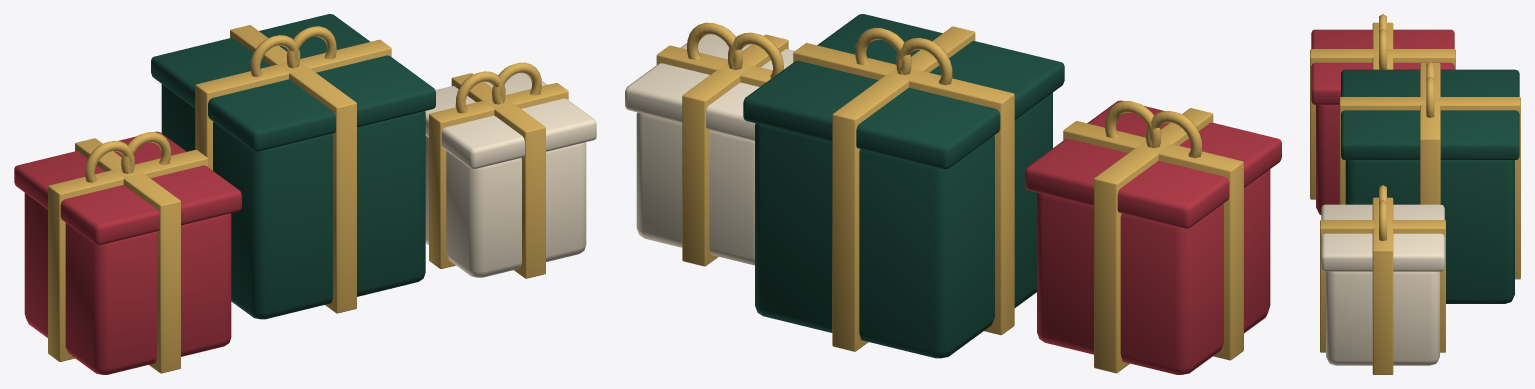
File: gifts.glb
3 renders of one model, left to right at view 1: azimuth 30°, elevation 25°; view 2: azimuth 150°, elevation 25°; view 3: azimuth 270°, elevation 25°, orthographic. The views are drawn at different scales.
Visible parts, largest first — view 1: Present.001, Present, Gift lid.001, Present.002, Gift lid, Gold ribbon.002, Gift lid.002, Gold ribbon, Gold ribbon.001, Gold ribbon.004, Gold ribbon.005, Gold ribbon.003 (+6 smaller); view 2: Present.001, Present, Gift lid.001, Gift lid, Present.002, Gold ribbon.002, Gold ribbon.003, Gold ribbon, Gold ribbon.001, Gold ribbon.004, Gift lid.002, Gold ribbon.005 (+6 smaller); view 3: Present.001, Gift lid.001, Present.002, Gift lid.002, Gift lid, Gold ribbon.002, Gold ribbon.005, Gold ribbon.004, Gold ribbon.003, Gold ribbon, Present, Gold ribbon.001 (+3 smaller).
Part boxes in pixels (x1,y1,x2,y2): Present.001: (161, 84, 425, 319); Present: (24, 193, 231, 374); Gift lid.001: (151, 14, 435, 151); Present.002: (425, 136, 586, 277); Gift lid: (14, 131, 241, 245); Gold ribbon.002: (230, 25, 356, 313); Gift lid.002: (425, 73, 596, 168); Gold ribbon: (75, 138, 180, 373); Gold ribbon.001: (48, 149, 207, 361); Gold ribbon.004: (451, 73, 545, 278); Gold ribbon.005: (429, 83, 568, 268); Gold ribbon.003: (195, 39, 391, 170); Present.001: (755, 92, 1052, 358); Present: (1037, 169, 1270, 374); Gift lid.001: (743, 14, 1064, 169); Gift lid: (1025, 100, 1281, 228); Present.002: (636, 112, 754, 265); Gold ribbon.002: (832, 26, 975, 351); Gold ribbon.003: (793, 43, 1014, 335); Gold ribbon: (1094, 108, 1213, 373); Gold ribbon.001: (1063, 121, 1243, 360); Gold ribbon.004: (682, 34, 788, 266); Gift lid.002: (625, 34, 794, 140); Gold ribbon.005: (656, 45, 772, 86); Present.001: (1345, 160, 1514, 303); Gift lid.001: (1341, 69, 1519, 159); Present.002: (1326, 271, 1439, 365); Gift lid.002: (1321, 204, 1444, 271); Gift lid: (1311, 29, 1454, 104); Gold ribbon.002: (1339, 97, 1520, 279); Gold ribbon.005: (1372, 197, 1393, 374); Gold ribbon.004: (1320, 220, 1445, 352); Gold ribbon.003: (1420, 63, 1440, 204); Gold ribbon: (1310, 49, 1455, 199); Present: (1316, 105, 1339, 214); Gold ribbon.001: (1372, 22, 1393, 69).
Size of the model in its own units: 1.26 by 0.5718 by 0.535.
